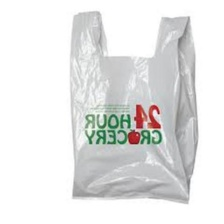plastic_bag: (64, 6, 199, 209)
